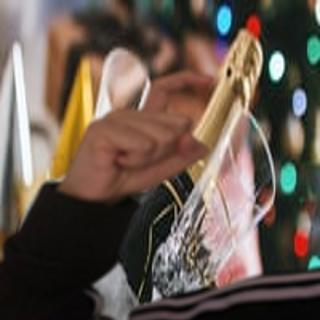WHY: (60, 64, 220, 201)
